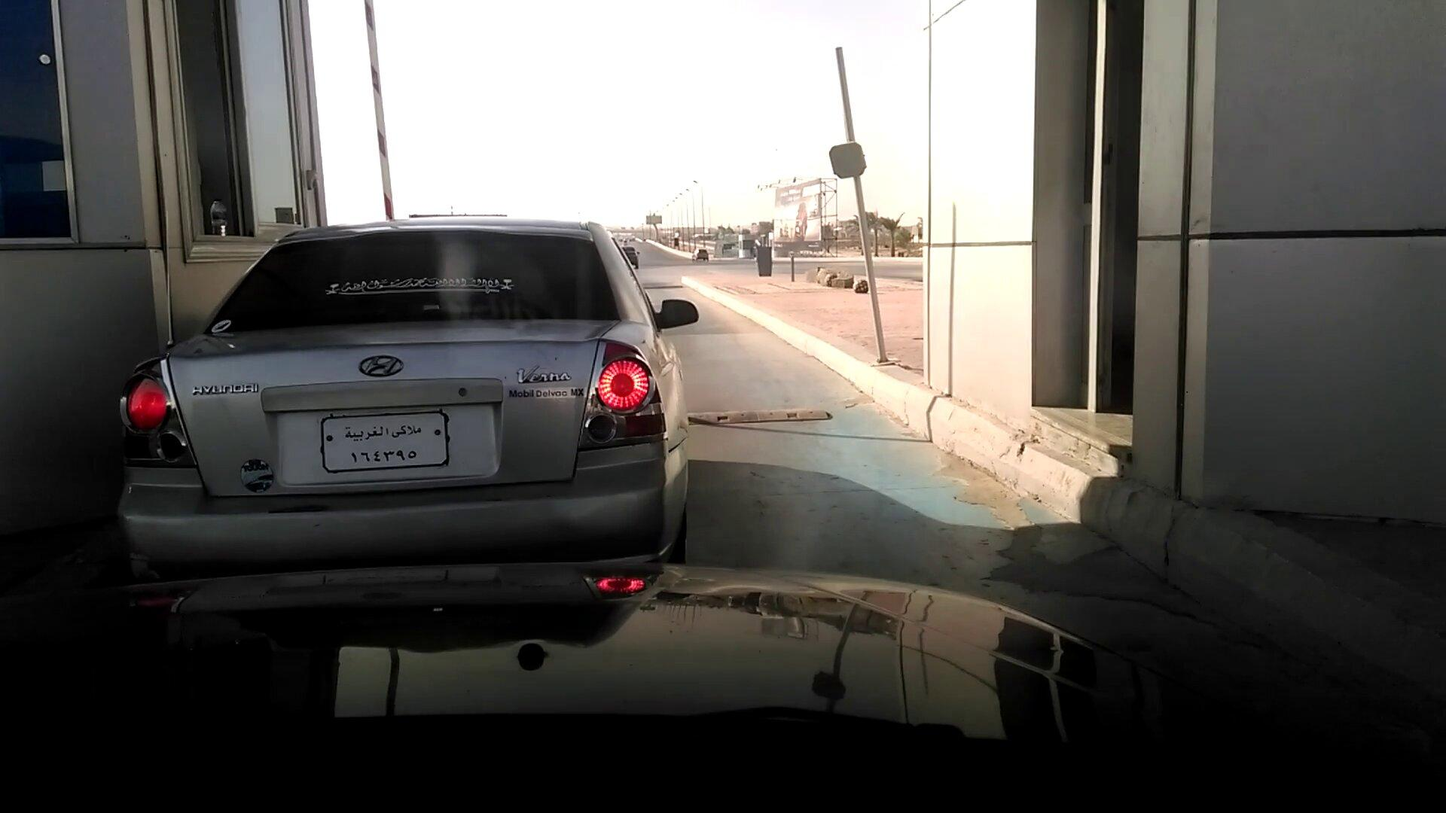Bump: (668, 399, 832, 433)
